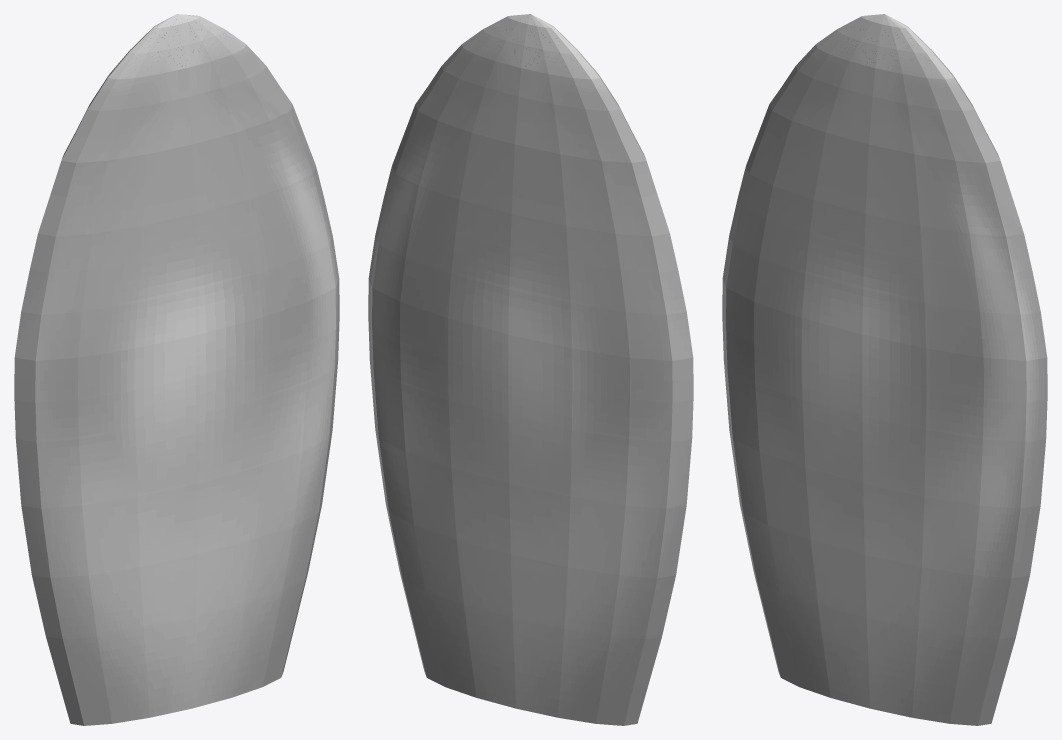
File: portal.obj
The picture shows the model from 3 angles, left to right: view 1: azimuth 30°, elevation 25°; view 2: azimuth 150°, elevation 25°; view 3: azimuth 330°, elevation 25°; orthographic projection.
Bounding box in the file's own units: 0.9951 × 2 × 0.2402.
